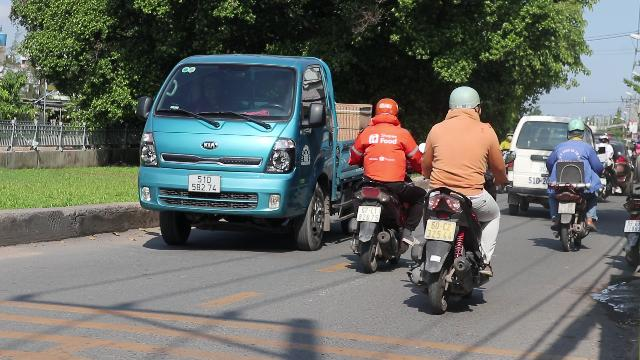helmet: (445, 86, 481, 118), (372, 97, 400, 123), (565, 118, 585, 138)
licenseplate: (425, 221, 455, 242), (357, 206, 381, 222), (558, 202, 576, 213), (624, 220, 638, 230)
motorcyclist: (409, 83, 507, 313), (345, 96, 423, 272), (544, 118, 604, 250)
